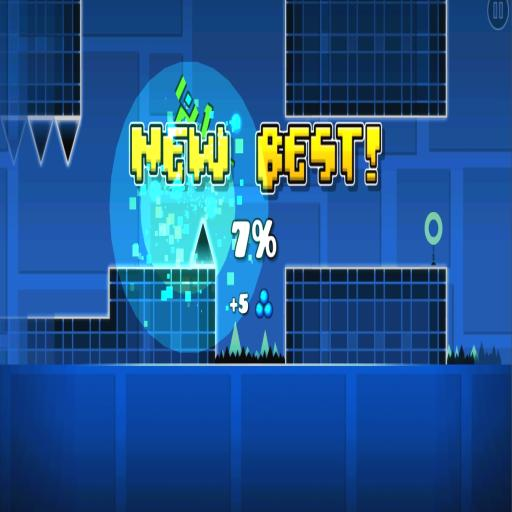block: (0, 260, 219, 375), (281, 0, 451, 121), (283, 262, 450, 374), (0, 0, 84, 118)
spike: (1, 117, 26, 164), (29, 118, 53, 164), (56, 118, 80, 164), (192, 222, 214, 266), (229, 325, 241, 355), (261, 331, 269, 355), (471, 345, 478, 361), (273, 343, 278, 355), (447, 345, 451, 357), (455, 346, 459, 358), (255, 351, 259, 359), (221, 351, 224, 358), (246, 348, 249, 355), (234, 322, 236, 328)
